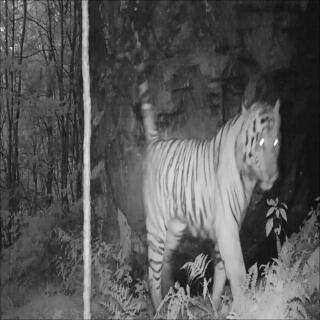Tiger: (127, 30, 284, 311)
